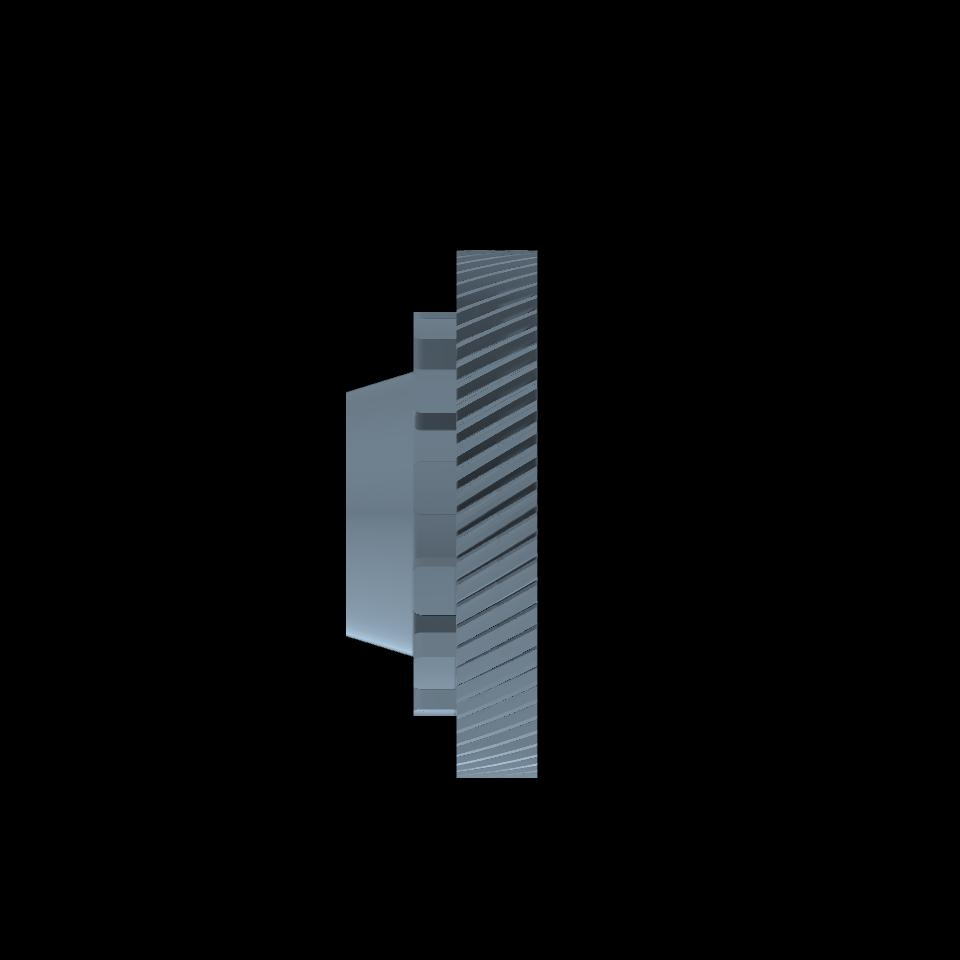Helical: (457, 249, 535, 777)
